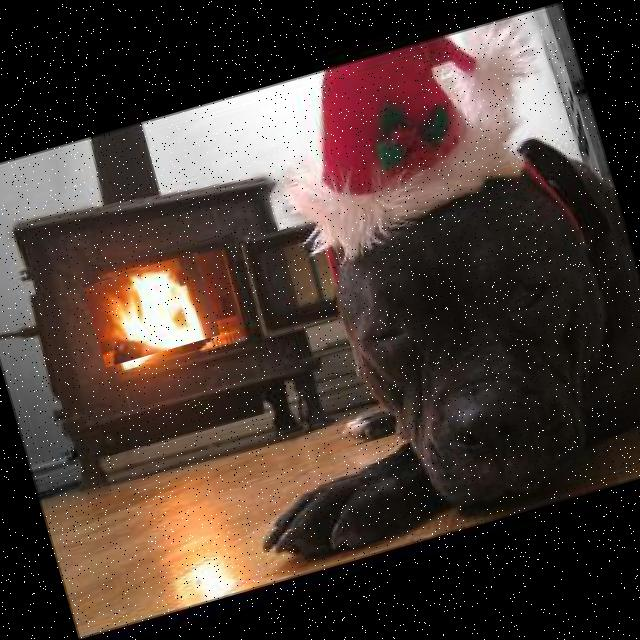fire: (82, 252, 220, 366)
